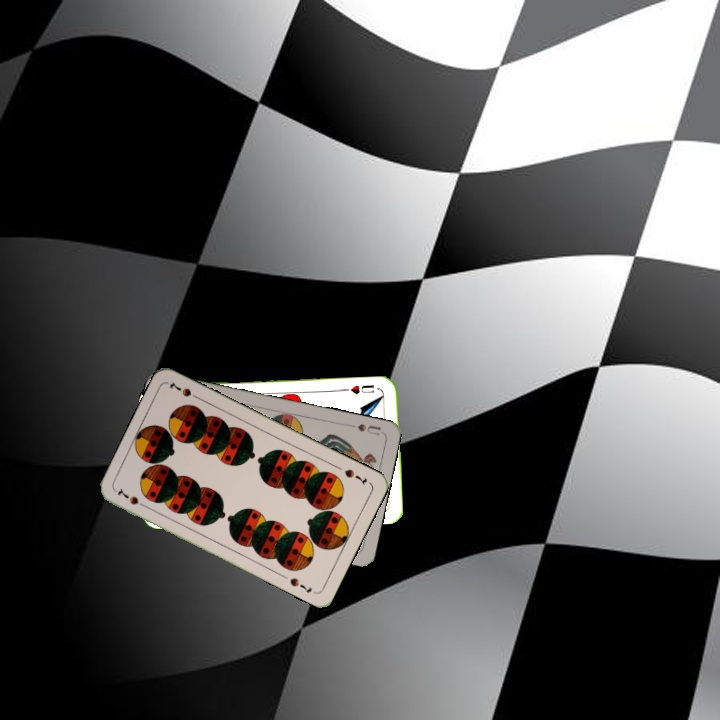HU: (346, 381, 377, 396)
S7: (114, 484, 150, 511), (340, 465, 370, 488)
SU: (344, 419, 385, 438)
